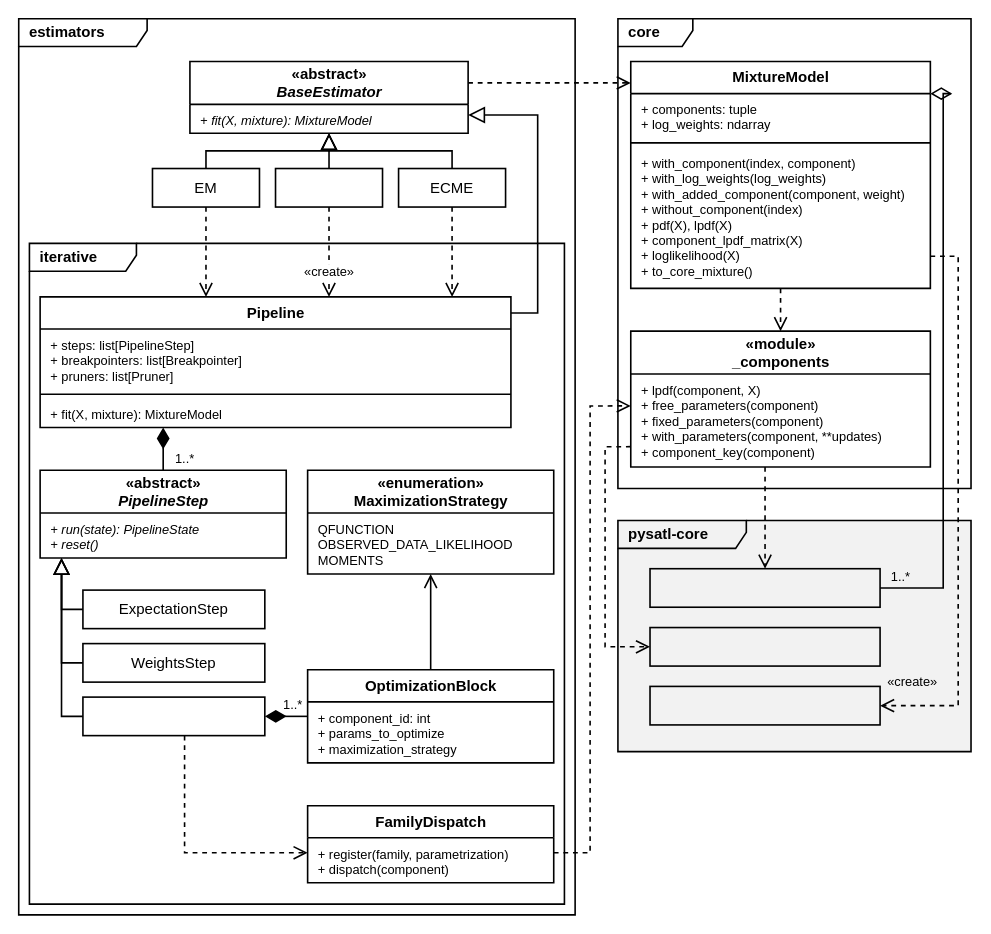
Image size: 991x934. Some labels were removed from this diagram. Each missing label, with the centre of its shape:
"ECM" belongs at point (328, 187).
"FiniteMixtureDistribution" belongs at point (764, 705).
"MaximizationStep" belongs at point (173, 716).
"ParametricFamilyDistribution" belongs at point (764, 587).
"PartialParametricFamily" belongs at point (764, 646).
